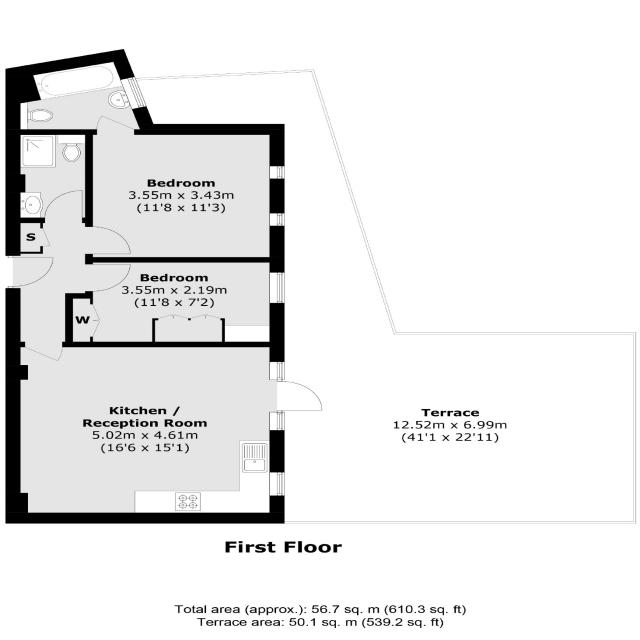DOOR: (6, 256, 56, 288), (84, 225, 133, 256), (84, 263, 133, 294), (43, 189, 84, 224), (276, 381, 323, 411), (95, 114, 137, 136), (22, 341, 64, 363)
ROOM: (5, 341, 324, 524), (85, 114, 285, 263), (65, 256, 285, 348)
WINDOW: (119, 75, 148, 111), (269, 271, 286, 304), (269, 471, 285, 497), (268, 361, 286, 380), (269, 411, 286, 431), (269, 165, 286, 179), (269, 212, 286, 226)
